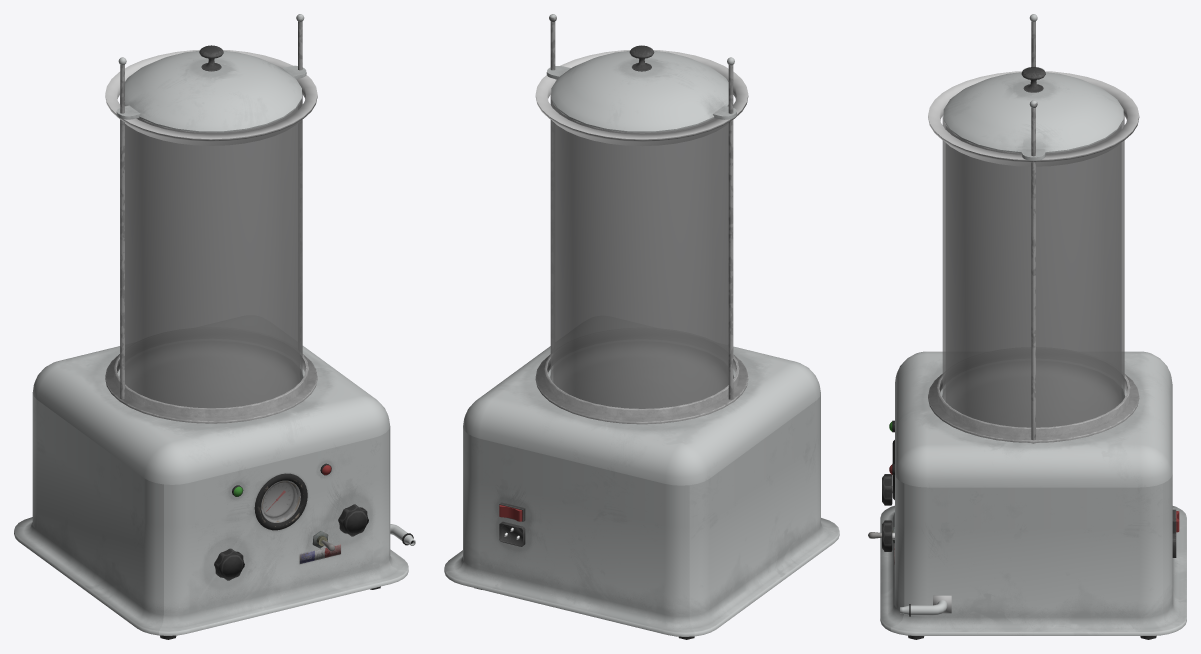
The model's file is SM_Embalming_Machine.FBX.
The picture shows the model from 3 angles, left to right: view 1: azimuth 30°, elevation 25°; view 2: azimuth 150°, elevation 25°; view 3: azimuth 270°, elevation 25°; orthographic projection.
Parts seen in each view (by area): view 1: Embalming_Machine_Main, Embalming_Machine_Tank, Embalming_Machine_cap, Embalming_Machine_Selector_1, Embalming_Machine_Selector_2; view 2: Embalming_Machine_Main, Embalming_Machine_Tank, Embalming_Machine_cap; view 3: Embalming_Machine_Main, Embalming_Machine_Tank, Embalming_Machine_cap, Embalming_Machine_tube.
Boxes of the visible parts, x1,y1,x2,y2 form: Embalming_Machine_Main: [14, 14, 408, 639]; Embalming_Machine_Tank: [120, 92, 302, 408]; Embalming_Machine_cap: [116, 45, 306, 132]; Embalming_Machine_Selector_1: [338, 504, 368, 536]; Embalming_Machine_Selector_2: [214, 548, 244, 580]; Embalming_Machine_Main: [444, 14, 839, 639]; Embalming_Machine_Tank: [550, 93, 728, 408]; Embalming_Machine_cap: [546, 45, 736, 132]; Embalming_Machine_Main: [880, 14, 1186, 639]; Embalming_Machine_Tank: [942, 113, 1124, 427]; Embalming_Machine_cap: [943, 67, 1123, 160]; Embalming_Machine_tube: [900, 600, 947, 616].
Bounding box in the file's own units: 33.91 × 34.45 × 63.08.
